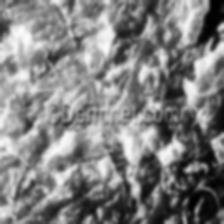Potentially Malignant Skin Tumors: (174, 177, 218, 224)
